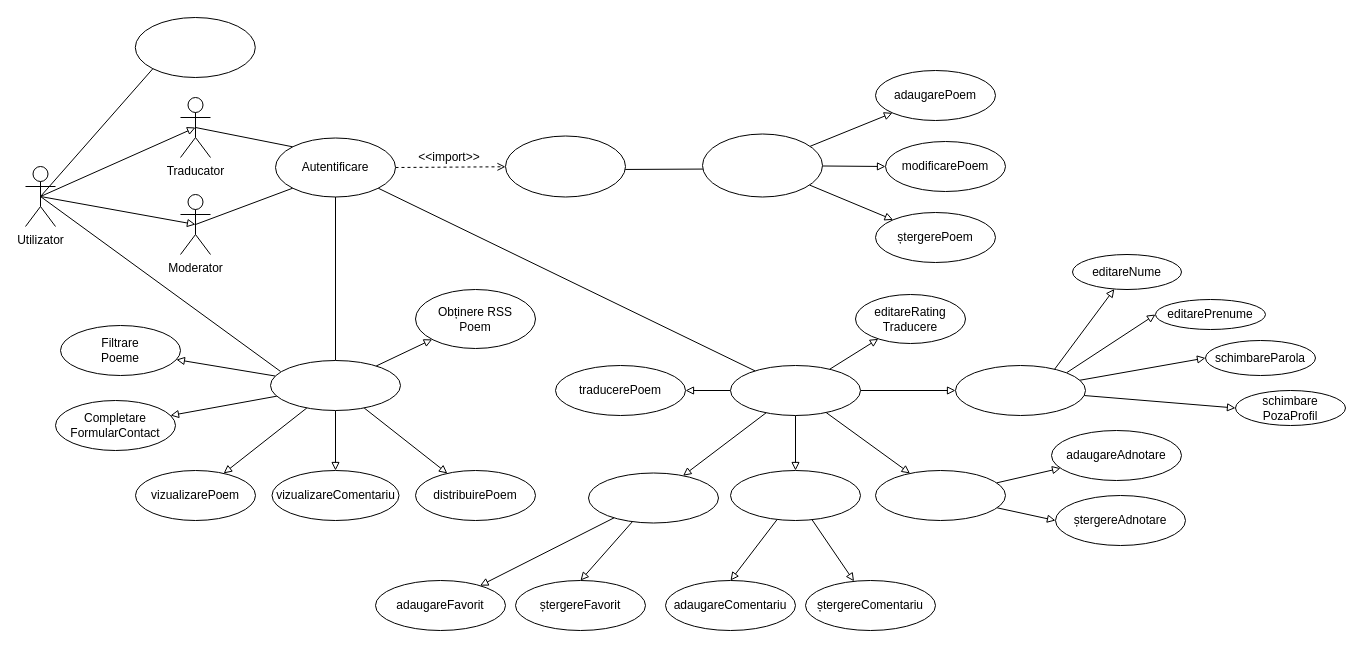
This 1363x648 diagram has some shape labels left out. Each missing label, with the centre of its shape:
Autentificare Moderator: point 565,166
Operație adnotare: point 940,495
Operație comentariu: point 795,495
Operație PoemFavorit: point 653,497
Operație profil: point 1020,390
Operație utilizator autentificat: point 795,390
Operație utilizator neautentificat: point 335,385
Operațiune de administrare: point 762,165
Înregistrare: point 194,47
